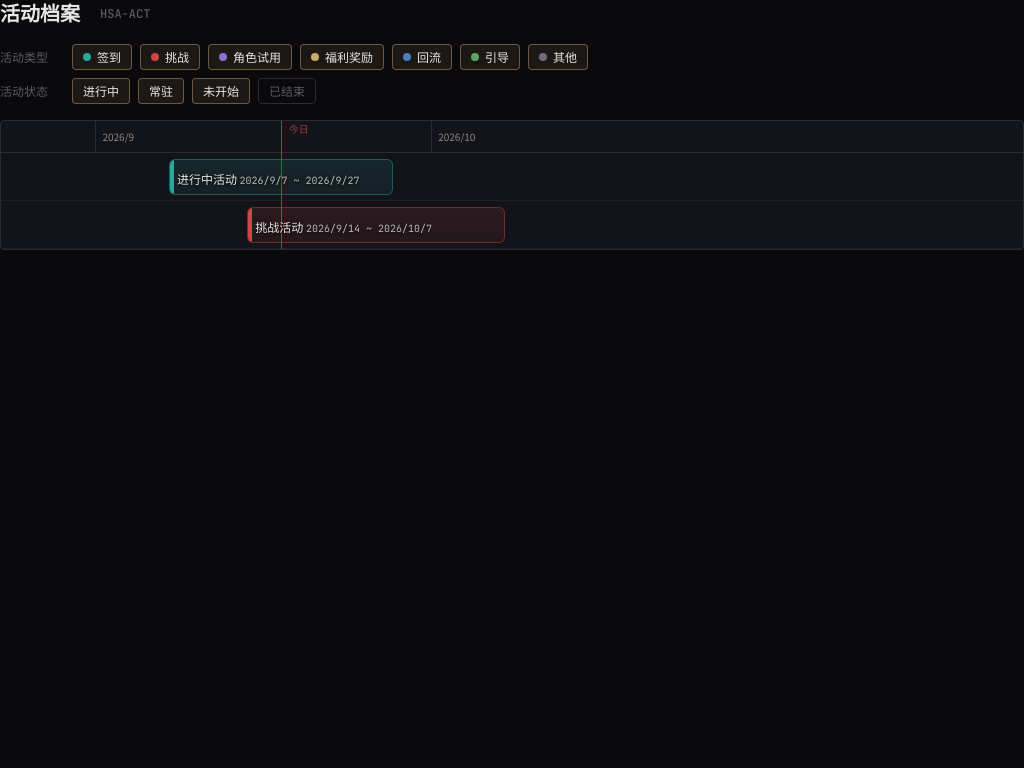
Test: ActivityArchive › opens tooltip when a bar is clicked and closes it via the close button
Click the button with test id "gantt-bar-a_ongoing". click: (281, 176)
box: left=169, top=158, right=393, bottom=194
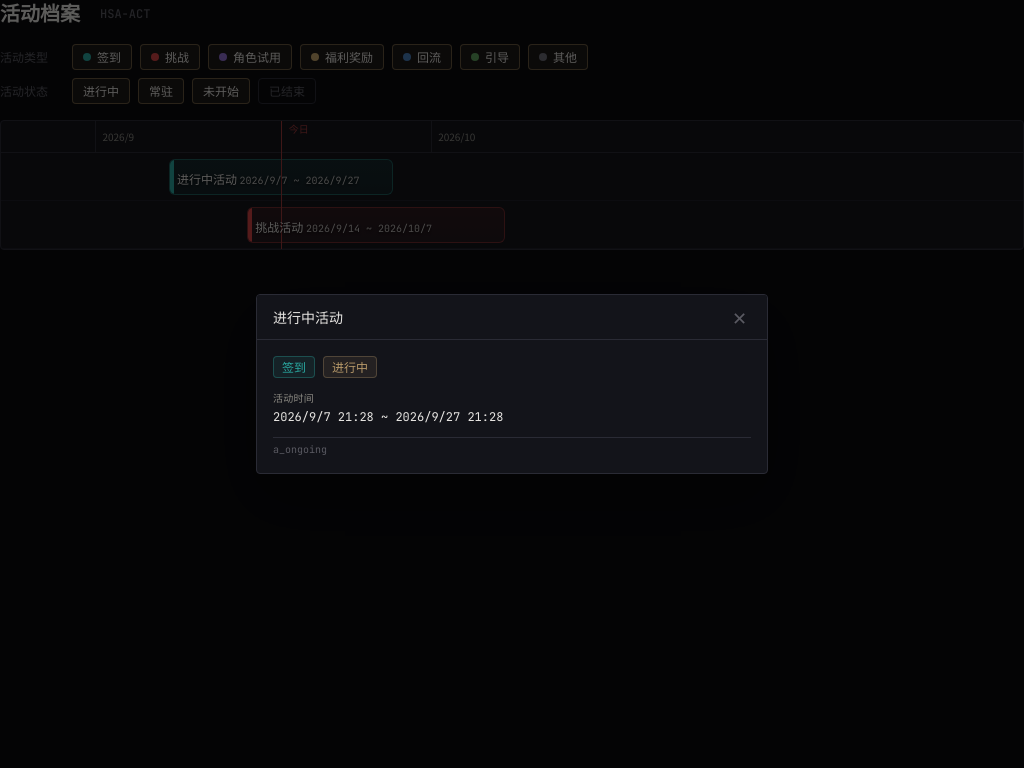
Now the dialog is shown
Click the button "✕". click: (739, 317)
box: left=728, top=308, right=751, bottom=326
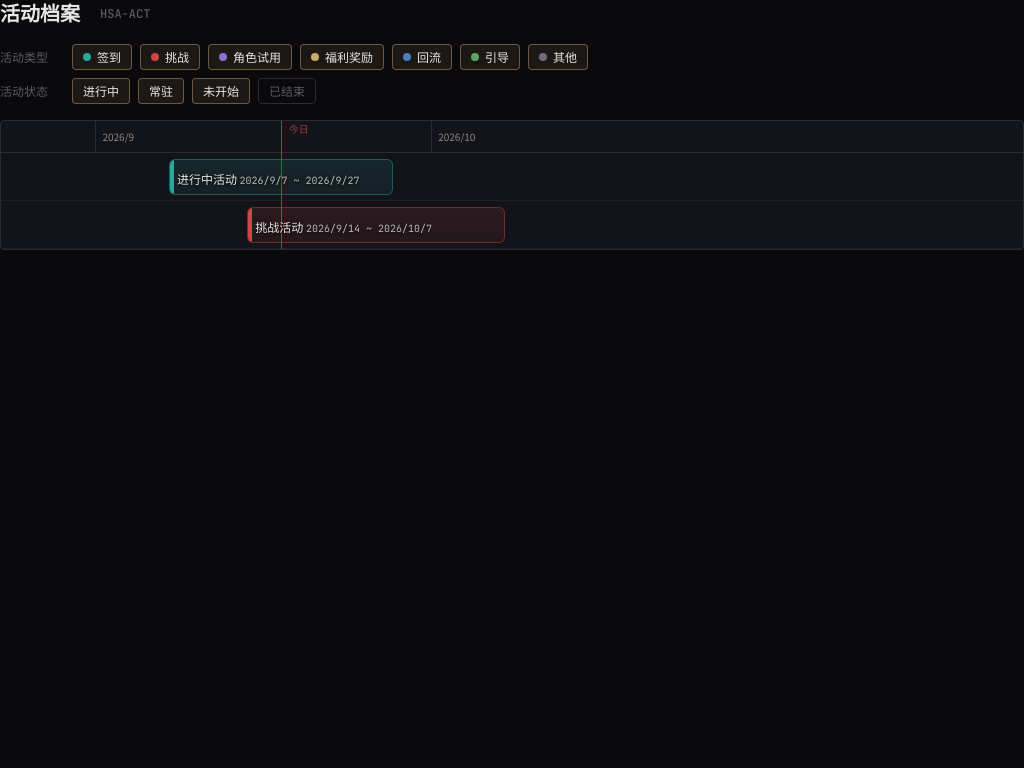
Now no dialogs are shown
